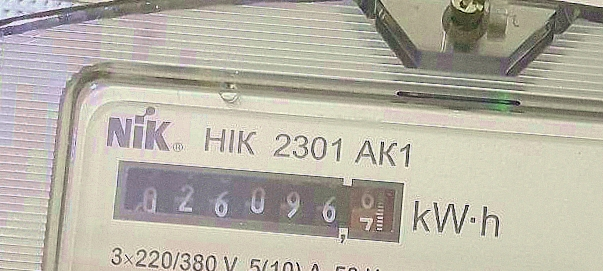0: (246, 182, 269, 218), (138, 181, 160, 215)
2: (174, 180, 198, 217)
6: (211, 185, 232, 222), (319, 191, 339, 225), (357, 184, 378, 212)
7: (356, 213, 376, 235)
9: (282, 188, 303, 221)
screen: (102, 150, 413, 255)
